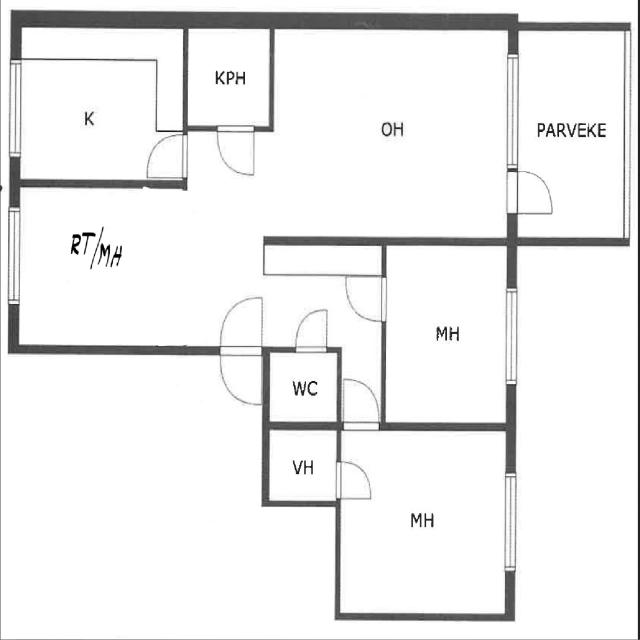door: (274, 311, 336, 422), (209, 292, 267, 409), (500, 164, 560, 219), (336, 368, 384, 430), (213, 120, 260, 183), (340, 268, 392, 324), (287, 302, 333, 357), (141, 130, 190, 180), (333, 456, 378, 502)
window: (497, 460, 527, 581), (497, 275, 526, 392), (500, 47, 527, 170), (1, 51, 28, 167), (2, 200, 26, 312)
zone: (272, 26, 512, 238), (3, 184, 271, 352), (335, 424, 511, 621), (512, 25, 632, 244), (380, 240, 513, 426), (10, 48, 181, 184), (185, 24, 273, 129), (264, 424, 342, 504), (266, 347, 340, 423)
